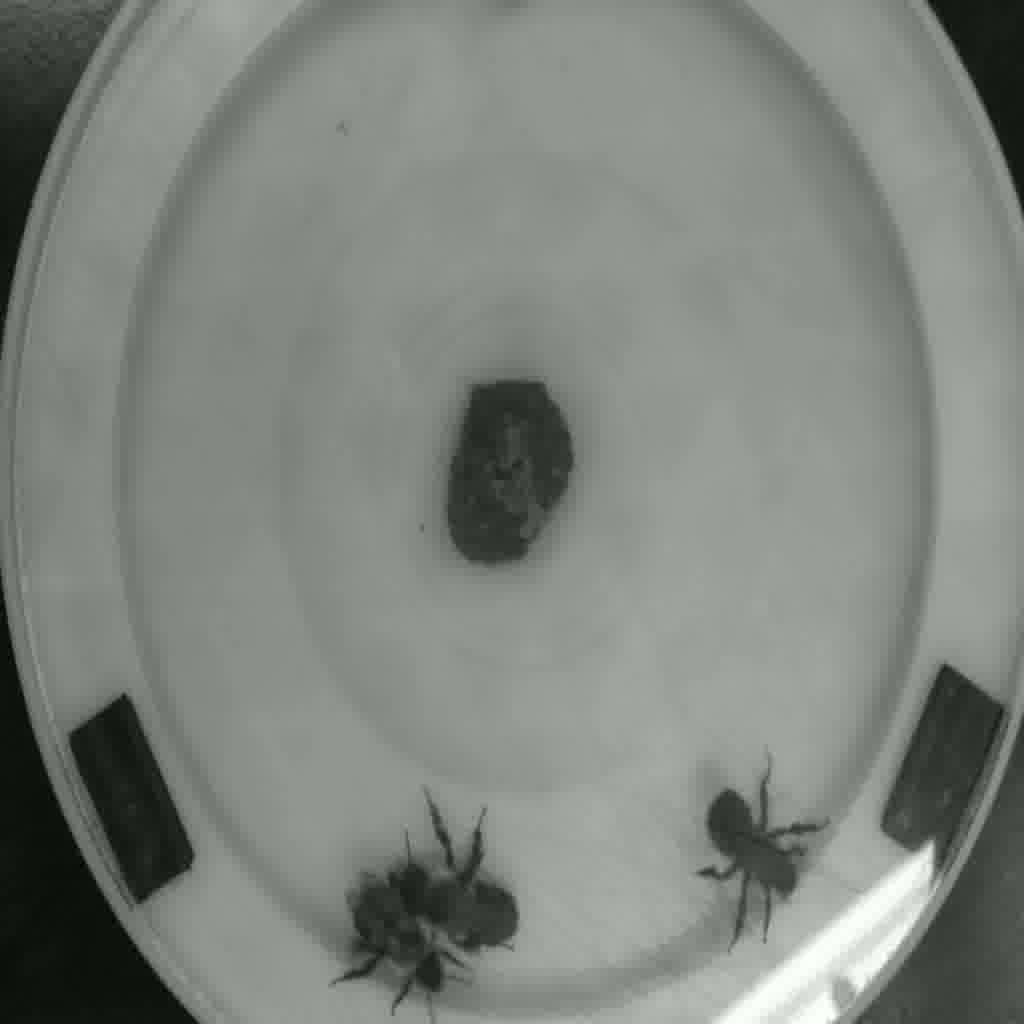bee: (677, 787, 821, 925), (314, 873, 464, 1005), (397, 850, 539, 955)
